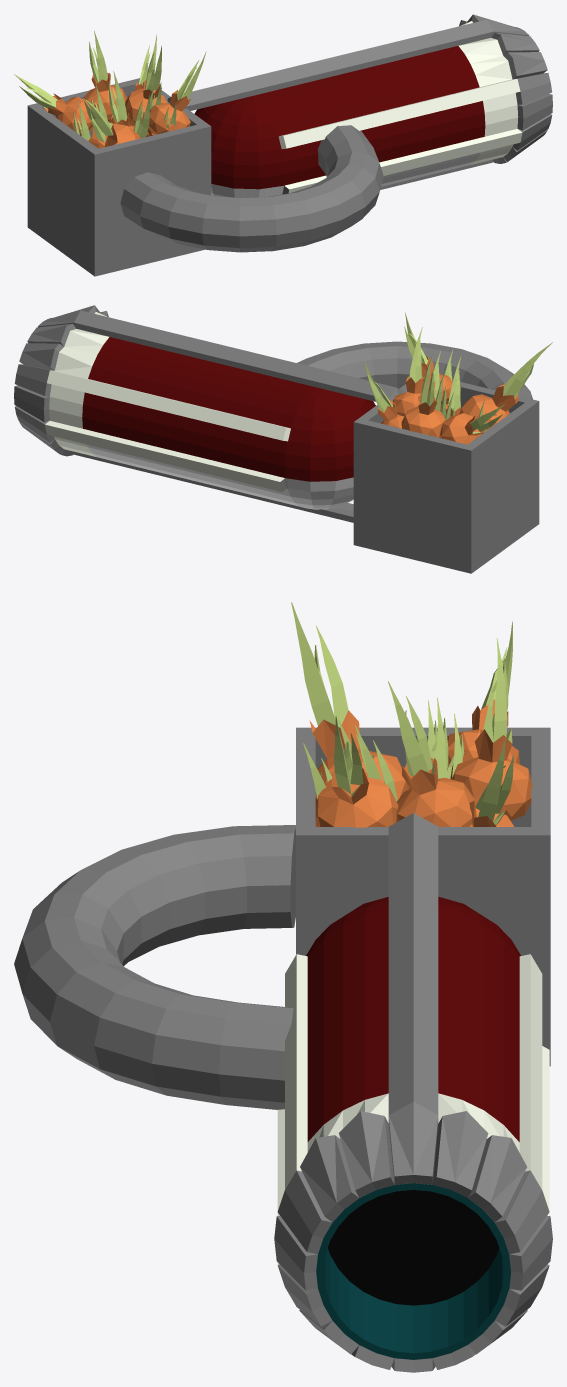
File: cannon.fbx
3 views of the same model, one above another, from view 1: azimuth 30°, elevation 25°; view 2: azimuth 150°, elevation 25°; view 3: azimuth 270°, elevation 25° (orthographic). The views are drawn at different scales.
Parts seen in each view (by area): view 1: Content; view 2: Content; view 3: Content.
Boxes of the visible parts, x1,y1,x2,y2 form: Content: (14,14,552,276); Content: (14,305,552,573); Content: (14,602,552,1372).
Bounding box in the file's own units: 832 × 333 × 423.
